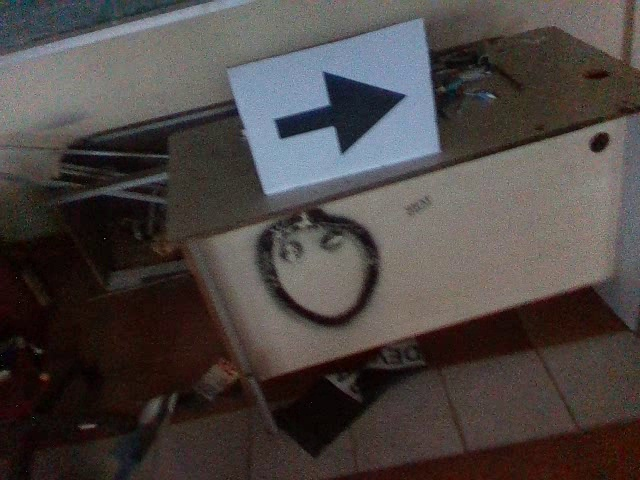Right: (265, 69, 408, 159)
